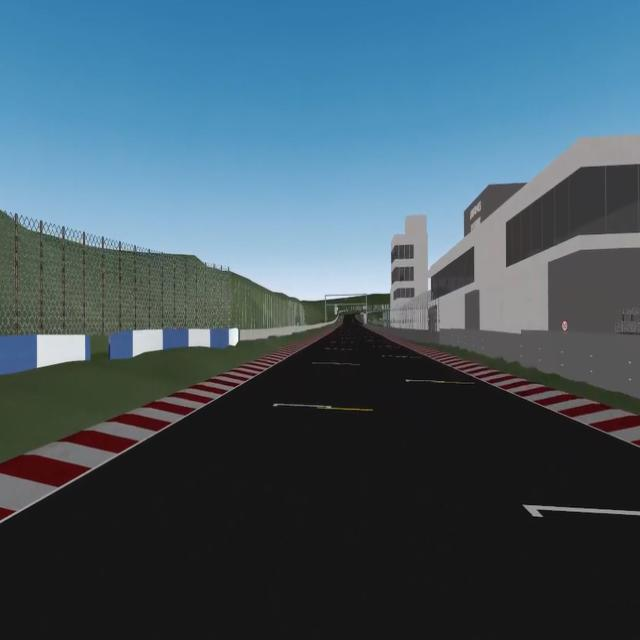Speed Limit -50-: (563, 322, 567, 330)
